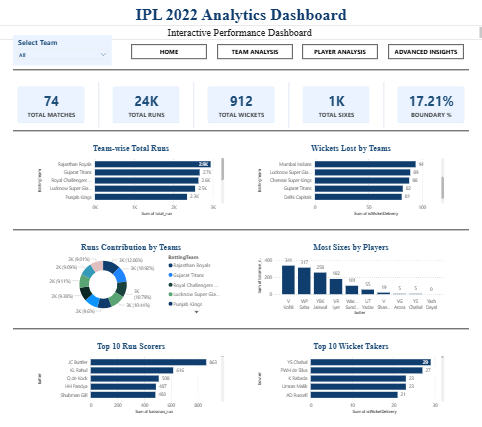

The dashboard page shown, as its layout file describes it:
{"tool":"powerbi","page":{"name":"Home Dashboard","canvas":[1280,1500],"ordinal":0},"visuals":[{"type":"textbox","box":[0,18.5,1280,57.1],"z":0},{"type":"textbox","box":[0,75.6,1280,42],"z":1000},{"type":"cardVisual","fields":{"Data":["Measure_Table.Total_matches"]},"box":[50,235,200,100],"z":2000},{"type":"cardVisual","fields":{"Data":["Measure_Table.Total_sixes"]},"box":[800,236.1,200,100.8],"z":3000},{"type":"cardVisual","fields":{"Data":["Measure_Table.Total_runs"]},"box":[300,236.1,200,100.8],"z":4000},{"type":"cardVisual","fields":{"Data":["Measure_Table.Total_wickets"]},"box":[550,236.1,200,100],"z":5000},{"type":"clusteredBarChart","title":"Team-wise Total Runs","fields":{"Category":["IPL_Data.BattingTeam"],"Y":["Sum(IPL_Data.total_run)"]},"box":[100,400,500,200],"z":6000},{"type":"donutChart","title":"Runs Contribution by Teams","fields":{"Category":["IPL_Data.BattingTeam"],"Y":["Sum(IPL_Data.total_run)"]},"box":[350,670,700,200],"z":7000},{"type":"barChart","title":"Wickets Lost by Teams","fields":{"Category":["IPL_Data.BattingTeam"],"Y":["Sum(IPL_Data.isWicketDelivery)"]},"box":[700,400,500,200],"z":8000},{"type":"clusteredBarChart","title":"Top 10 Run Scorers","fields":{"Category":["IPL_Data.batter"],"Y":["Sum(IPL_Data.batsman_run)"]},"box":[100,950,500,200],"z":9000},{"type":"barChart","title":"Top 10 Wicket Takers","fields":{"Category":["IPL_Data.bowler"],"Y":["Sum(IPL_Data.isWicketDelivery)"]},"box":[700,950,500,200],"z":10000},{"type":"barChart","title":"Most Sixes by Players","fields":{"Category":["IPL_Data.batter"],"Y":["Sum(IPL_Data.batsman_run)"]},"box":[350,1250,700,200],"z":11000},{"type":"shape","box":[49.6,163.4,1190,78.3],"z":12000},{"type":"shape","box":[49.6,300,1190,150],"z":13000},{"type":"shape","box":[50,554.3,1190,150],"z":14000},{"type":"shape","box":[50,818.3,1190,150],"z":15000},{"type":"shape","box":[45,1116.7,1190,150],"z":16000},{"type":"slicer","fields":{"Values":["Dim_Team.Team Name"]},"box":[45.4,96.4,255.1,82.2],"z":17000},{"type":"cardVisual","fields":{"Data":["Measure_Table.Boundary %"]},"box":[1050,236,200,100],"z":18000},{"type":"shape","box":[270,215,20,150],"z":19000},{"type":"shape","box":[520,215,19.1,149.1],"z":20000},{"type":"shape","box":[1020,215,20.5,150.4],"z":21000},{"type":"shape","box":[770,215,20.5,150.4],"z":22000},{"type":"actionButton","box":[300,120,200,40.1],"z":23000},{"type":"actionButton","box":[960,120,200,40.1],"z":24000},{"type":"actionButton","box":[740,120,200,40.1],"z":25000},{"type":"actionButton","box":[520,120,200,40.1],"z":26000}]}

Visuals, with their boxes on the page's 1280x1500 design canvas (x1, y1, x2, y2). These are canvas units, not pixel positions in the 482x427 screenshot, which may show the page scaled, cropped or inside an application window:
textbox: region(0, 18, 1280, 76)
textbox: region(0, 76, 1280, 118)
cardVisual - Measure_Table.Total_matches: region(50, 235, 250, 335)
cardVisual - Measure_Table.Total_sixes: region(800, 236, 1000, 337)
cardVisual - Measure_Table.Total_runs: region(300, 236, 500, 337)
cardVisual - Measure_Table.Total_wickets: region(550, 236, 750, 336)
"Team-wise Total Runs" clusteredBarChart: region(100, 400, 600, 600)
"Runs Contribution by Teams" donutChart: region(350, 670, 1050, 870)
"Wickets Lost by Teams" barChart: region(700, 400, 1200, 600)
"Top 10 Run Scorers" clusteredBarChart: region(100, 950, 600, 1150)
"Top 10 Wicket Takers" barChart: region(700, 950, 1200, 1150)
"Most Sixes by Players" barChart: region(350, 1250, 1050, 1450)
shape: region(50, 163, 1240, 242)
shape: region(50, 300, 1240, 450)
shape: region(50, 554, 1240, 704)
shape: region(50, 818, 1240, 968)
shape: region(45, 1117, 1235, 1267)
slicer - Dim_Team.Team Name: region(45, 96, 300, 179)
cardVisual - Measure_Table.Boundary %: region(1050, 236, 1250, 336)
shape: region(270, 215, 290, 365)
shape: region(520, 215, 539, 364)
shape: region(1020, 215, 1040, 365)
shape: region(770, 215, 790, 365)
actionButton: region(300, 120, 500, 160)
actionButton: region(960, 120, 1160, 160)
actionButton: region(740, 120, 940, 160)
actionButton: region(520, 120, 720, 160)
